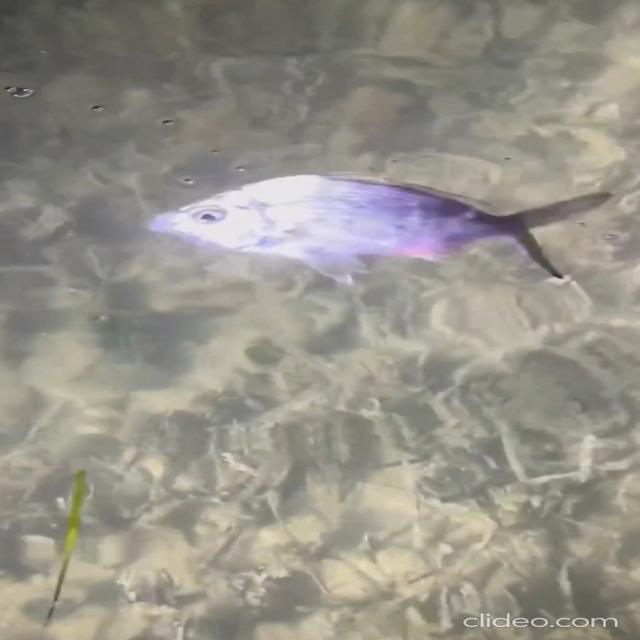fish: (131, 165, 634, 318)
